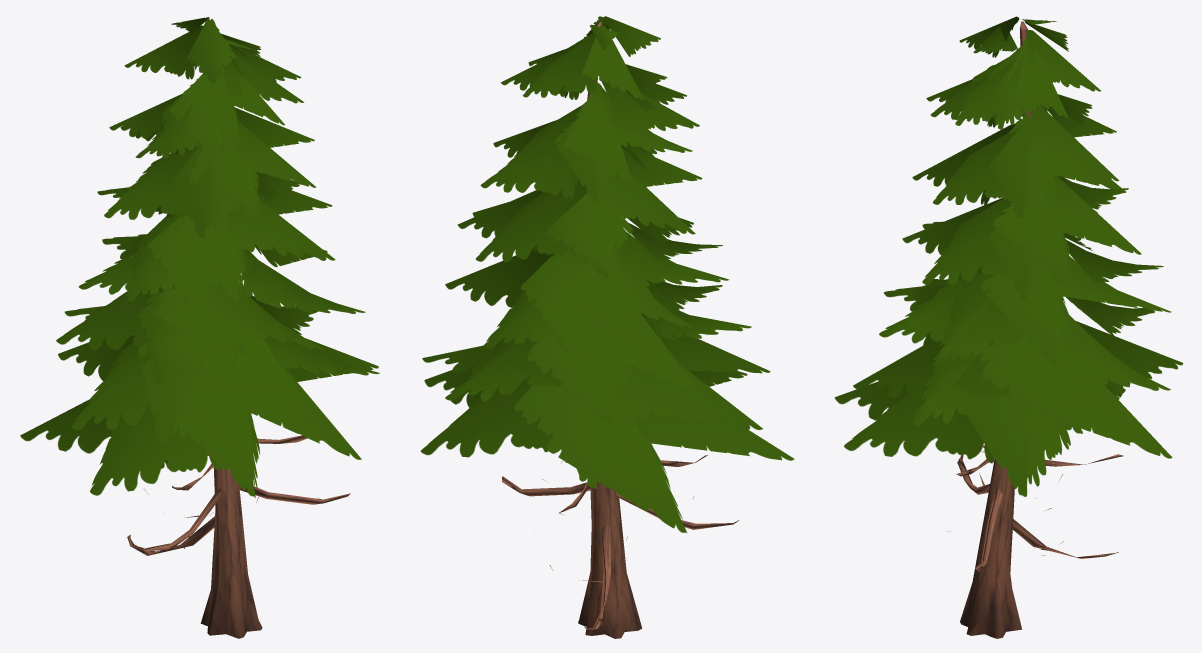
Rendered from spruce-2.glb.
The picture shows the model from 3 angles, left to right: view 1: azimuth 30°, elevation 25°; view 2: azimuth 150°, elevation 25°; view 3: azimuth 270°, elevation 25°; orthographic projection. The views are drawn at different scales.
Parts seen in each view (by area): view 1: Pine_4; view 2: Pine_4; view 3: Pine_4.
Boxes of the visible parts, left/top/right/bottom form: Pine_4: left=20, top=17, right=379, bottom=638; Pine_4: left=420, top=16, right=794, bottom=638; Pine_4: left=834, top=16, right=1182, bottom=638.
Bounding box in the file's own units: 5.8 × 10.06 × 5.37.
Materials: 2 (2 with a texture image).
